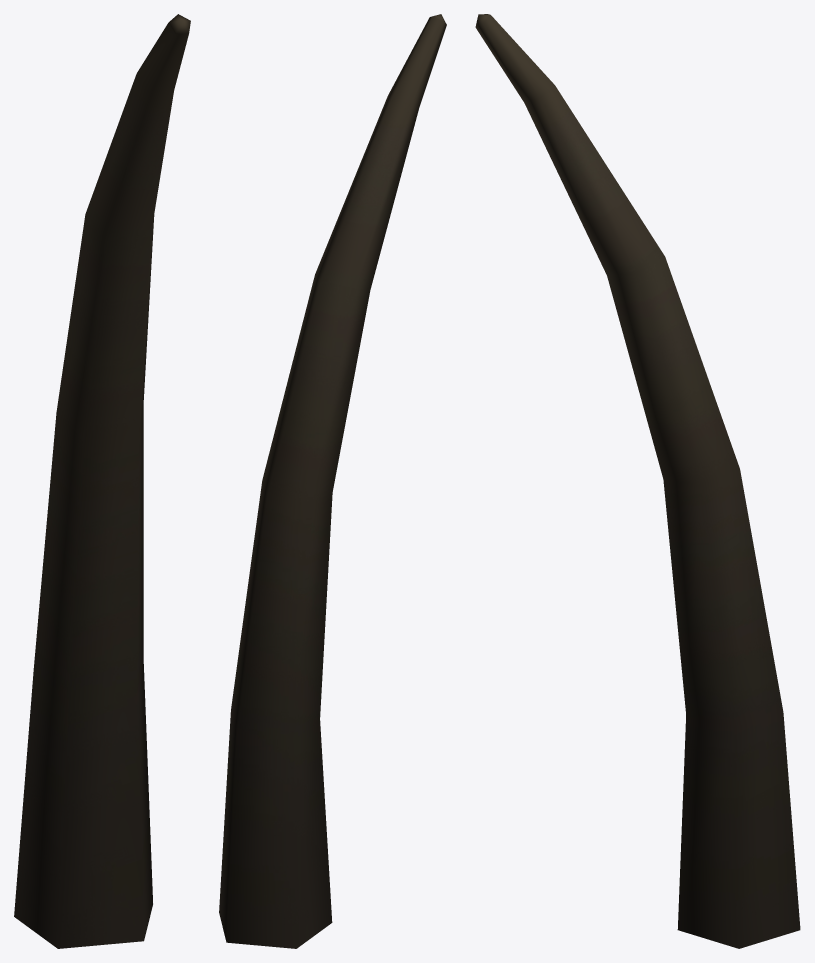
The model's file is hair.fbx.
3 renders of one model, left to right at view 1: azimuth 30°, elevation 25°; view 2: azimuth 150°, elevation 25°; view 3: azimuth 270°, elevation 25°, orthographic. The views are drawn at different scales.
Parts seen in each view (by area): view 1: Dandex_0001:Hair; view 2: Dandex_0001:Hair; view 3: Dandex_0001:Hair.
Boxes of the visible parts, x1,y1,x2,y2 form: Dandex_0001:Hair: (14,14,190,948); Dandex_0001:Hair: (219,14,446,948); Dandex_0001:Hair: (475,14,800,948).
Size of the model in its own units: 8.12 by 61.04 by 20.34.
1 material, 1 textured.
